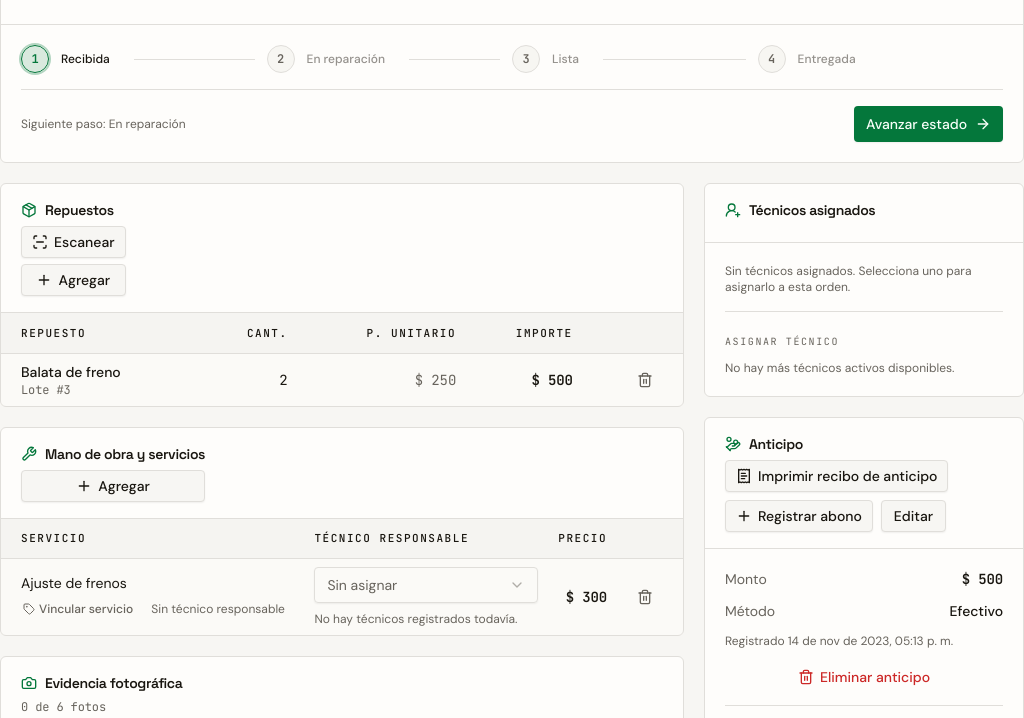
Scenario: OrderDetailPage anticipo removal consistency (characterization) › surfaces a removal rejected for dropping the total below the advance
(page scrolled)
Click the button with test id "order_detail.parts.remove_button.1" at (645,380), box x1=627 y1=362 x2=663 y2=398
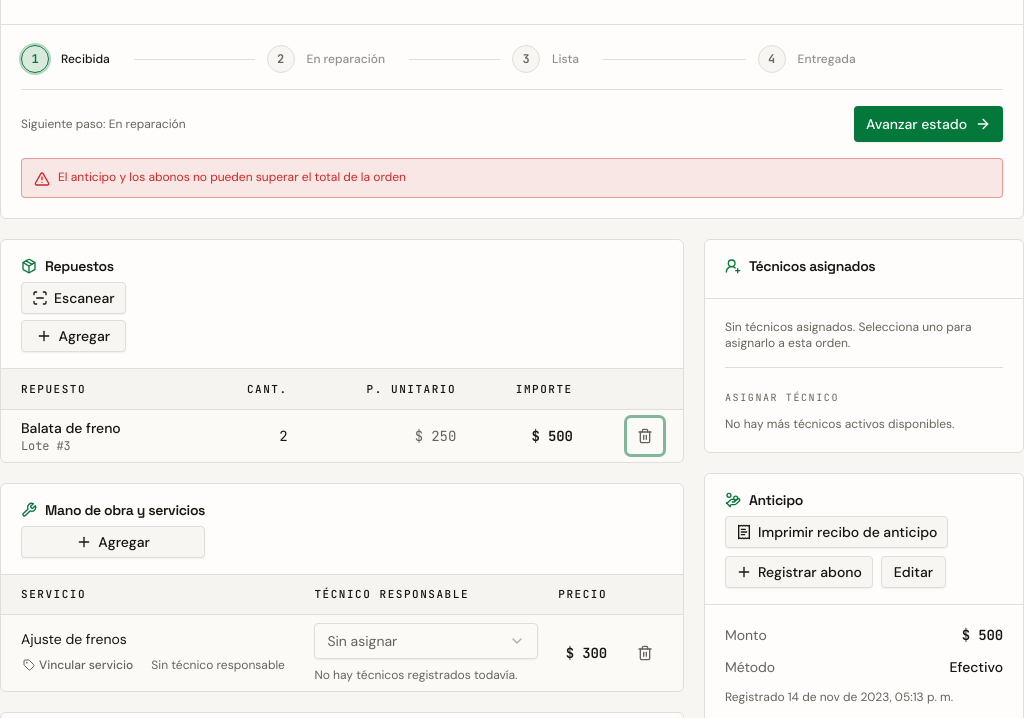
Expected: the text with test id "order_detail.advance.amount" reads "$ 500", x1=962 y1=626 x2=1003 y2=644
Now the element with test id "order_detail.action_error_state" reads "El anticipo y los abonos no pueden superar el total de la orden", box x1=58 y1=169 x2=406 y2=185
